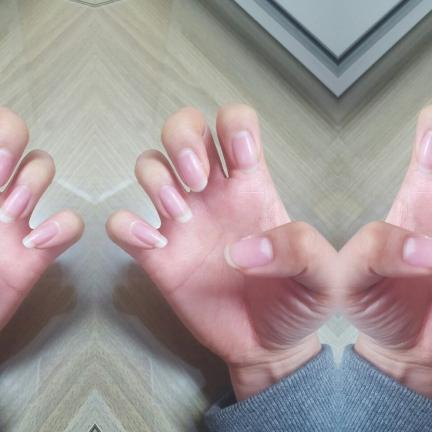Nail: (222, 236, 272, 270), (176, 148, 207, 192), (157, 185, 191, 223), (0, 185, 31, 223), (232, 131, 257, 175), (402, 236, 432, 270), (130, 222, 167, 248), (21, 222, 58, 248), (417, 131, 432, 175), (0, 148, 12, 187)
